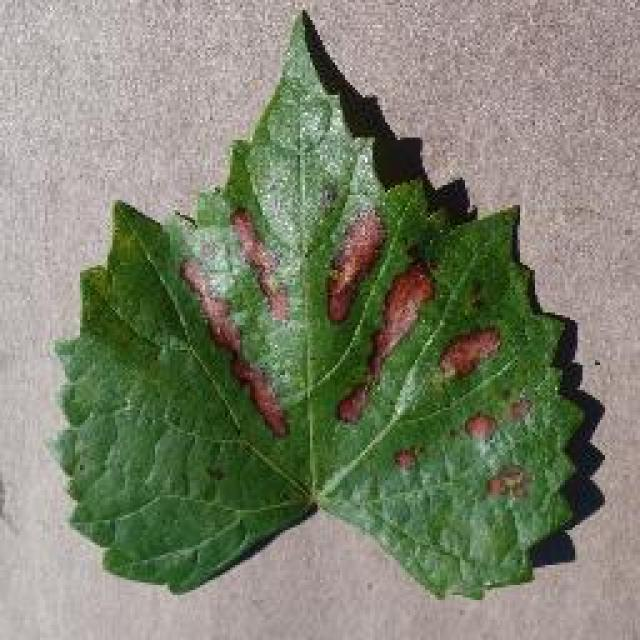Black_Measles: (35, 0, 592, 590)
